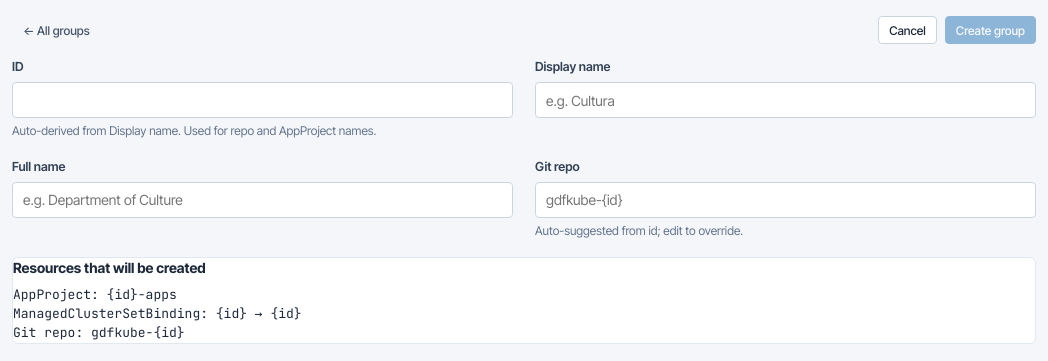
Test case: NewGroupPage › typing into Display name auto-populates ID and Git repo
The width and height of the screenshot is (1048, 361).
Type "Cultura" into the field labelled "Display name" at (786, 100), box [535, 82, 1036, 118]
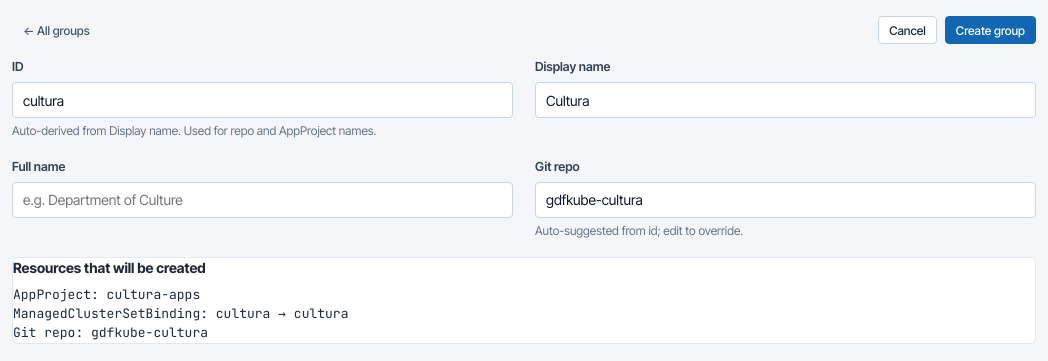
Expected: the field labelled "ID" holds "cultura", [12, 82, 513, 118]
Expected: the field labelled "Git repo" holds "gdfkube-cultura", [535, 182, 1036, 218]
